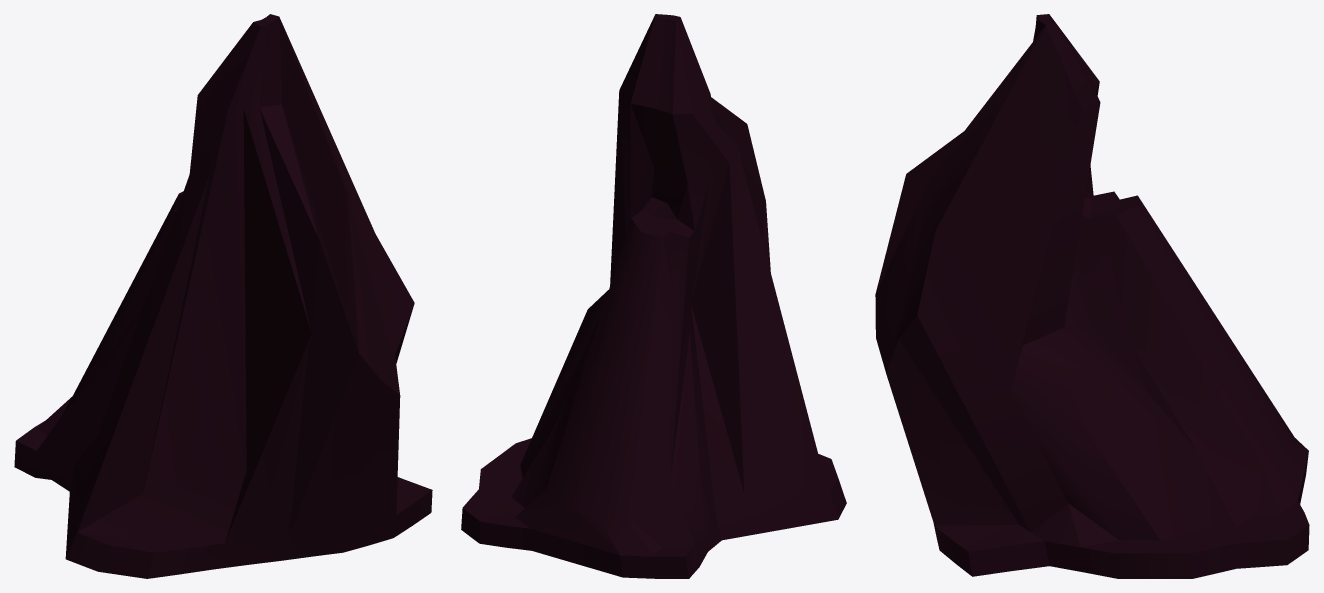
Rendered from volcanorock2.fbx.
3 renders of one model, left to right at view 1: azimuth 30°, elevation 25°; view 2: azimuth 150°, elevation 25°; view 3: azimuth 270°, elevation 25°, orthographic. The views are drawn at different scales.
Visible parts, largest first — view 1: Plane.002; view 2: Plane.002; view 3: Plane.002.
Part boxes in pixels (bbox=[...]): Plane.002: bbox=[14, 14, 432, 578]; Plane.002: bbox=[461, 14, 846, 578]; Plane.002: bbox=[875, 14, 1309, 578].
Size of the model in its own units: 517 by 753 by 598.
